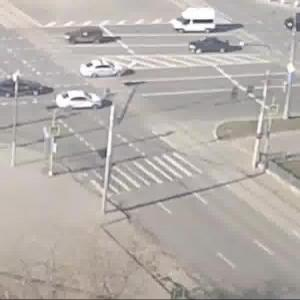car: (58, 90, 108, 113), (173, 11, 218, 36), (186, 38, 239, 56), (81, 61, 131, 80), (1, 78, 44, 98), (67, 27, 106, 45)
